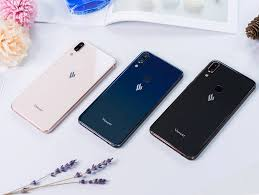vsmart: (145, 59, 256, 160), (8, 37, 116, 135), (75, 50, 183, 148)
